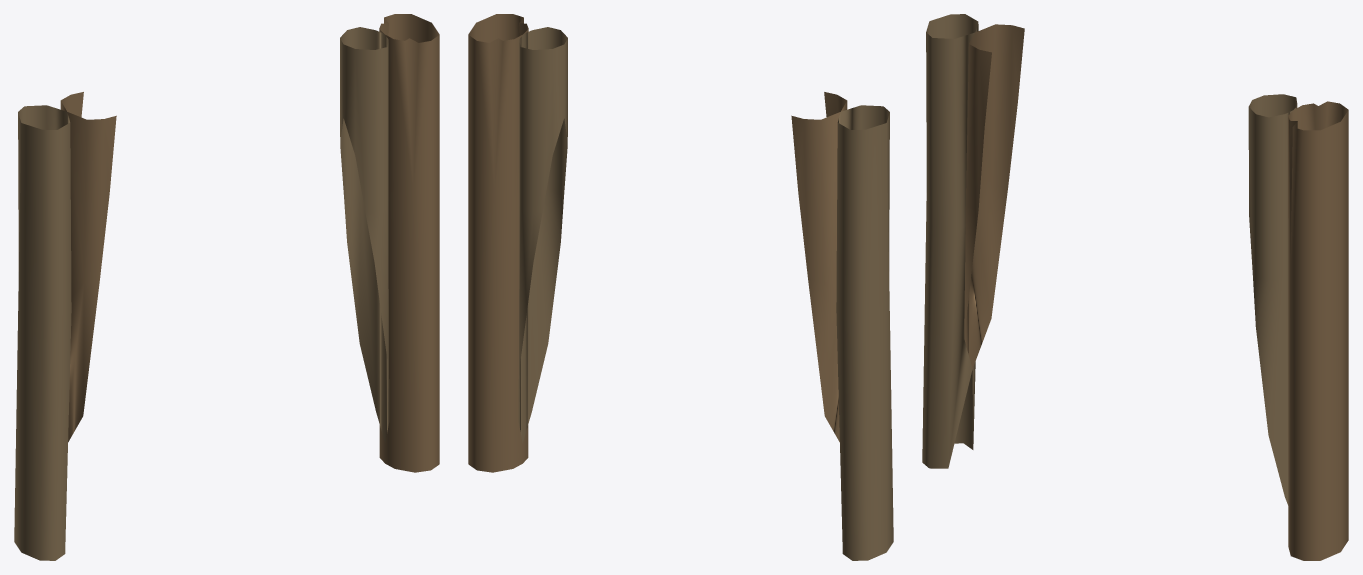
File: rpgpp_ag_wall_02_3x3_door_b.fbx
3 renders of one model, left to right at view 1: azimuth 30°, elevation 25°; view 2: azimuth 150°, elevation 25°; view 3: azimuth 330°, elevation 25°, orthographic.
Parts seen in each view (by area): view 1: rpgpp_ag_wall_02_3x3_door_b; view 2: rpgpp_ag_wall_02_3x3_door_b; view 3: rpgpp_ag_wall_02_3x3_door_b.
Part boxes in pixels (x1,y1,x2,y2): rpgpp_ag_wall_02_3x3_door_b: (14, 14, 439, 560); rpgpp_ag_wall_02_3x3_door_b: (468, 14, 893, 560); rpgpp_ag_wall_02_3x3_door_b: (922, 14, 1348, 560).
Bounding box in the file's own units: 3 × 3 × 0.4626.
